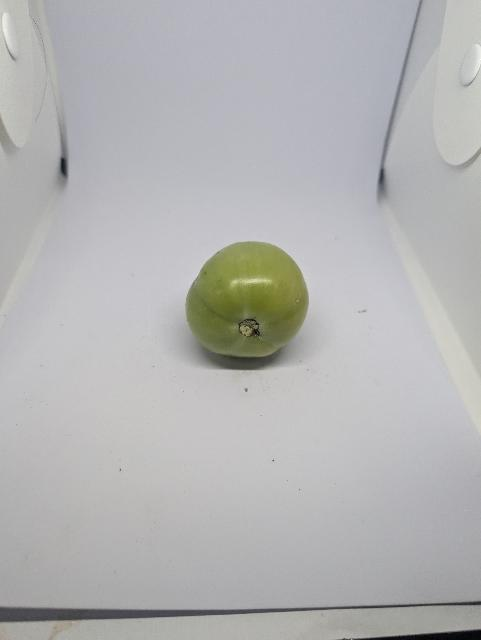green: (175, 220, 325, 391)
